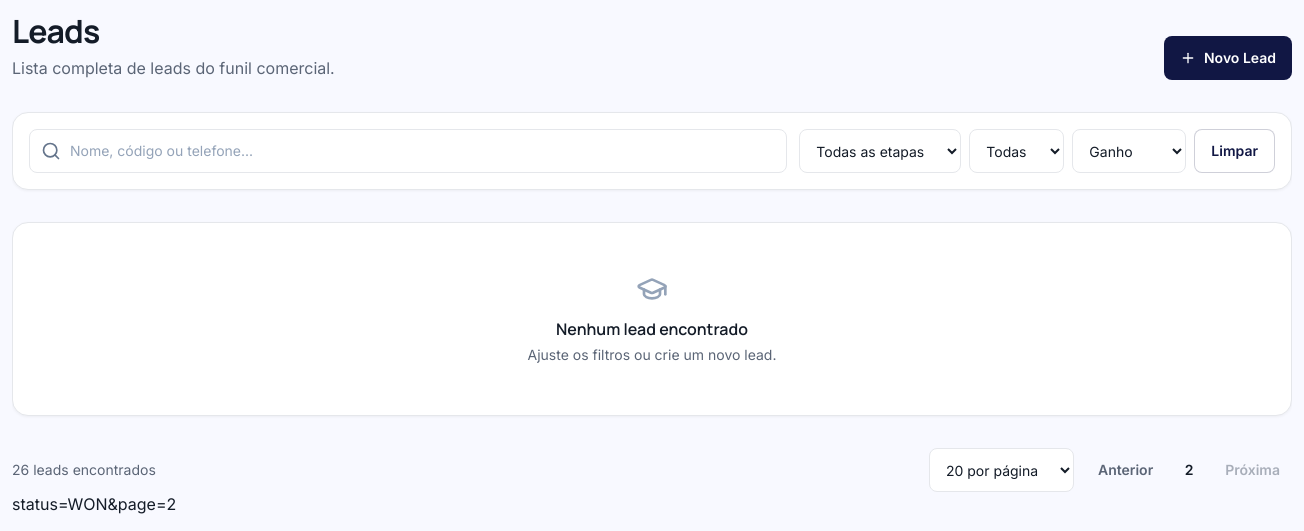
Test case: LeadsPage — persistência de filtros na URL (Fase 7) › limpar filtros remove parâmetros da URL
Step 1. Click the button "Limpar" → (1235, 151), box [1194,129,1275,173]
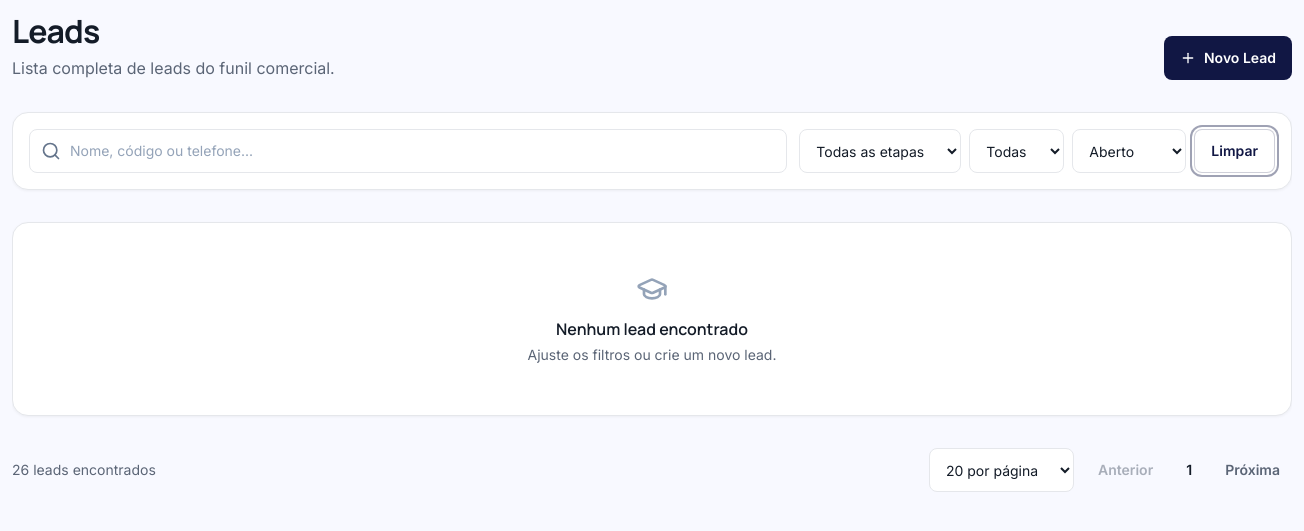
Expected: the text with test id "location-search" no longer shows "status="
Expected: the text with test id "location-search" no longer shows "page="
